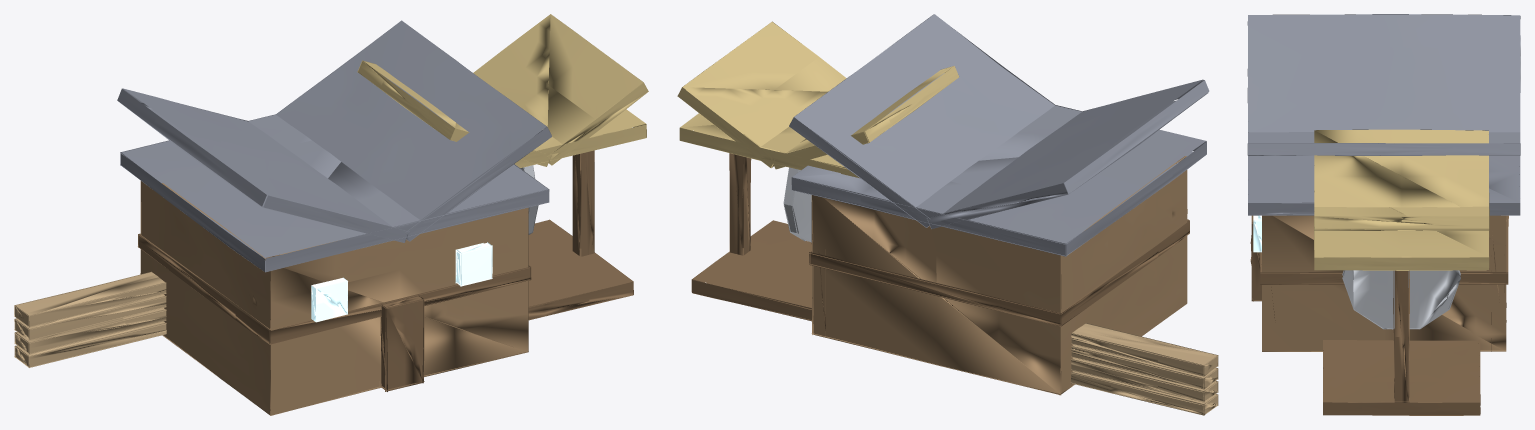
Rendered from sawmill.glb.
3 views of the same model, side by side, from view 1: azimuth 30°, elevation 25°; view 2: azimuth 150°, elevation 25°; view 3: azimuth 270°, elevation 25° (orthographic). The views are drawn at different scales.
Visible parts, largest first — view 1: SawmillWall; view 2: SawmillWall; view 3: SawmillWall.
Part boxes in pixels (box(x1,y1,x2,y2)): SawmillWall: box(14, 14, 648, 415); SawmillWall: box(677, 14, 1218, 415); SawmillWall: box(1247, 14, 1520, 415).
Bounding box in the file's own units: 3.37 × 1.37 × 1.57.
